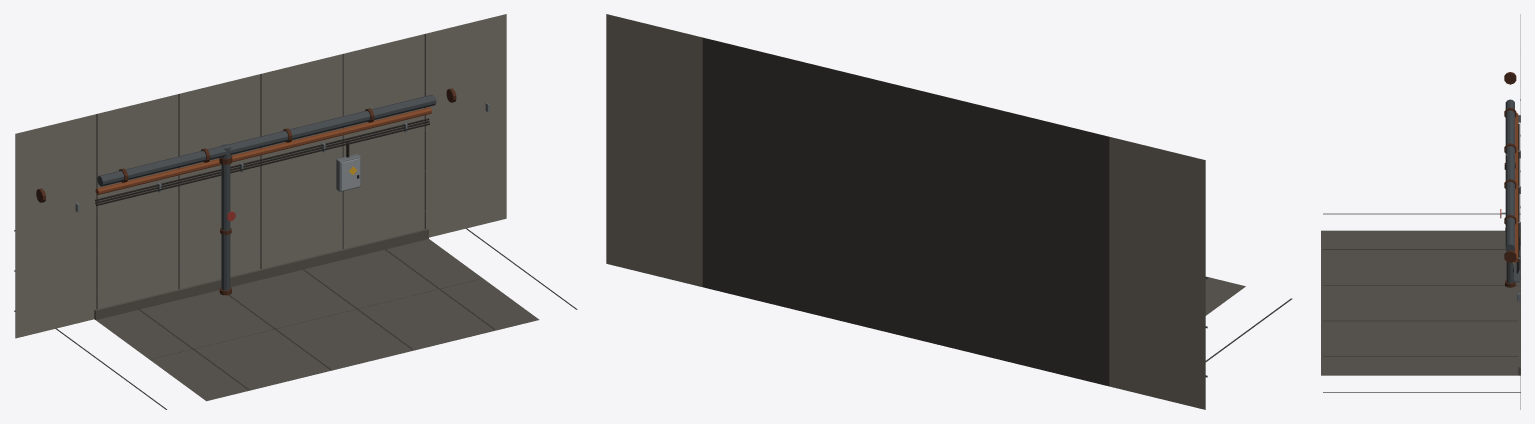
Rendered from shelter_living_concrete_normal_mid.glb.
The picture shows the model from 3 angles, left to right: view 1: azimuth 30°, elevation 25°; view 2: azimuth 150°, elevation 25°; view 3: azimuth 270°, elevation 25°; orthographic projection. The views are drawn at different scales.
Parts seen in each view (by area): view 1: shelter_living_concrete_normal_mid; view 2: shelter_living_concrete_normal_mid; view 3: shelter_living_concrete_normal_mid.
Part boxes in pixels (x1,y1,x2,y2): shelter_living_concrete_normal_mid: (14, 14, 577, 409); shelter_living_concrete_normal_mid: (606, 14, 1292, 409); shelter_living_concrete_normal_mid: (1321, 14, 1520, 409).
Bounding box in the file's own units: 7.68 × 3.05 × 3.03.
1 material, 1 textured.
